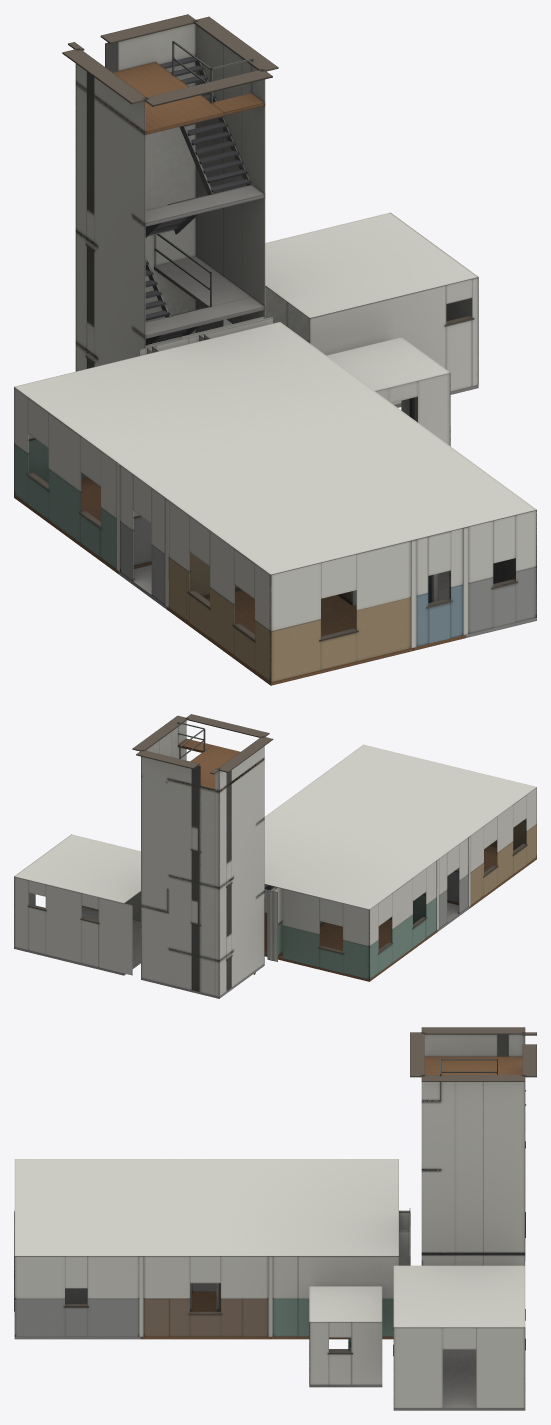
The model's file is corpus_int.glb.
3 views of the same model, one above another, from view 1: azimuth 30°, elevation 25°; view 2: azimuth 150°, elevation 25°; view 3: azimuth 270°, elevation 25° (orthographic). The views are drawn at different scales.
Visible parts, largest first — view 1: corpus_int; view 2: corpus_int; view 3: corpus_int.
Boxes of the visible parts, x1=… form: corpus_int: x1=14, y1=14, x2=536, y2=685; corpus_int: x1=14, y1=714, x2=536, y2=998; corpus_int: x1=14, y1=1027, x2=536, y2=1410.
Size of the model in its own units: 14.22 by 10.72 by 18.63.
1 material, 1 textured.
